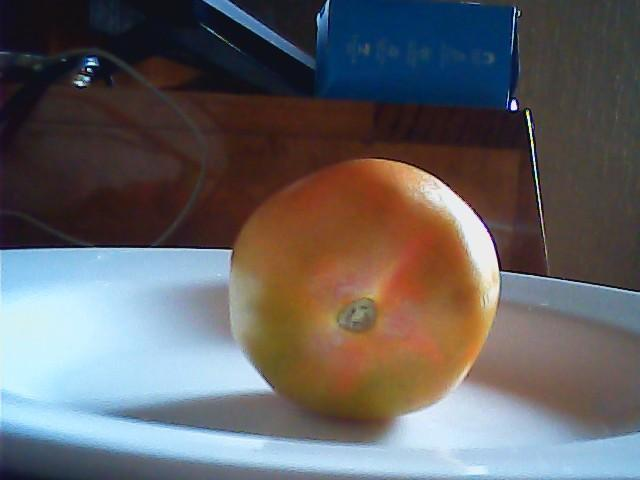verde: (222, 154, 503, 430)
